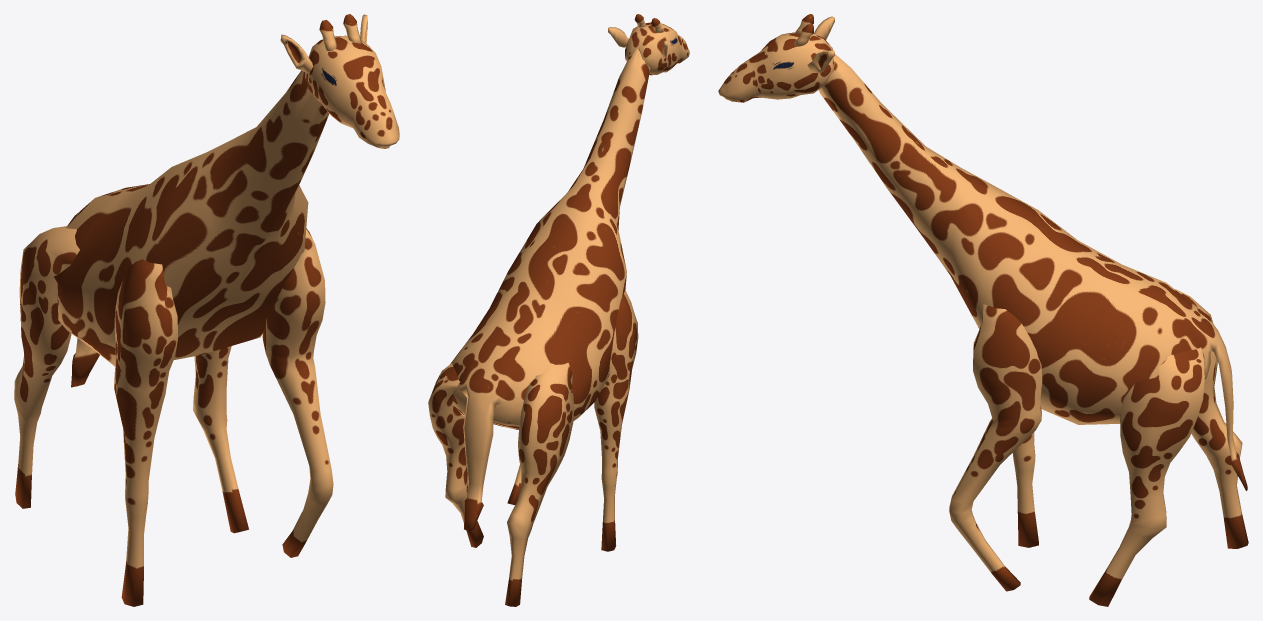
Rendered from Giraf.fbx.
The picture shows the model from 3 angles, left to right: view 1: azimuth 30°, elevation 25°; view 2: azimuth 150°, elevation 25°; view 3: azimuth 270°, elevation 25°; orthographic projection. The views are drawn at different scales.
Parts seen in each view (by area): view 1: Giraf; view 2: Giraf; view 3: Giraf.
Part boxes in pixels (x1,y1,x2,y2): Giraf: (14, 14, 399, 606); Giraf: (428, 14, 689, 606); Giraf: (718, 14, 1248, 606).
Size of the model in its own units: 145 by 478 by 413.
